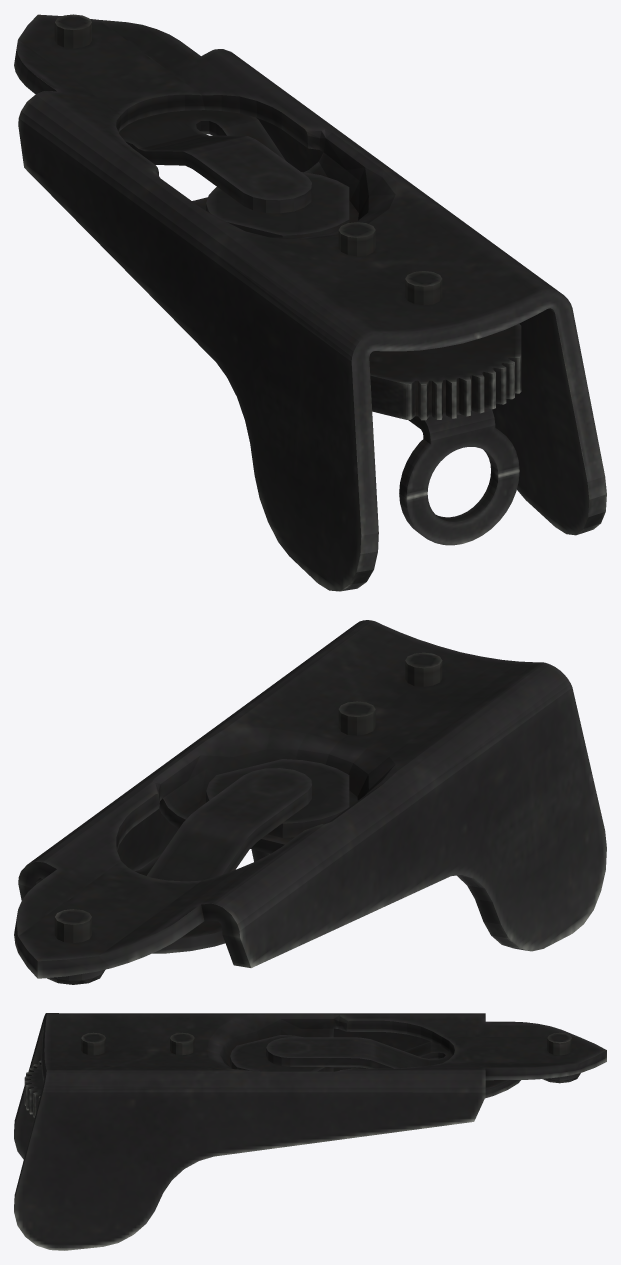
3 renders of one model, top to bottom at view 1: azimuth 30°, elevation 25°; view 2: azimuth 150°, elevation 25°; view 3: azimuth 270°, elevation 25°, orthographic. The views are drawn at different scales.
Visible parts, largest first — view 1: TW_5e87114fe2db31558c75a120_PZ_Import; view 2: TW_5e87114fe2db31558c75a120_PZ_Import; view 3: TW_5e87114fe2db31558c75a120_PZ_Import.
Boxes of the visible parts, bbox=[...] form: TW_5e87114fe2db31558c75a120_PZ_Import: bbox=[14, 14, 606, 591]; TW_5e87114fe2db31558c75a120_PZ_Import: bbox=[14, 620, 606, 984]; TW_5e87114fe2db31558c75a120_PZ_Import: bbox=[14, 1013, 606, 1250].
Size of the model in its own units: 0.0156 by 0.0473 by 0.0152.
1 material, 1 textured.
